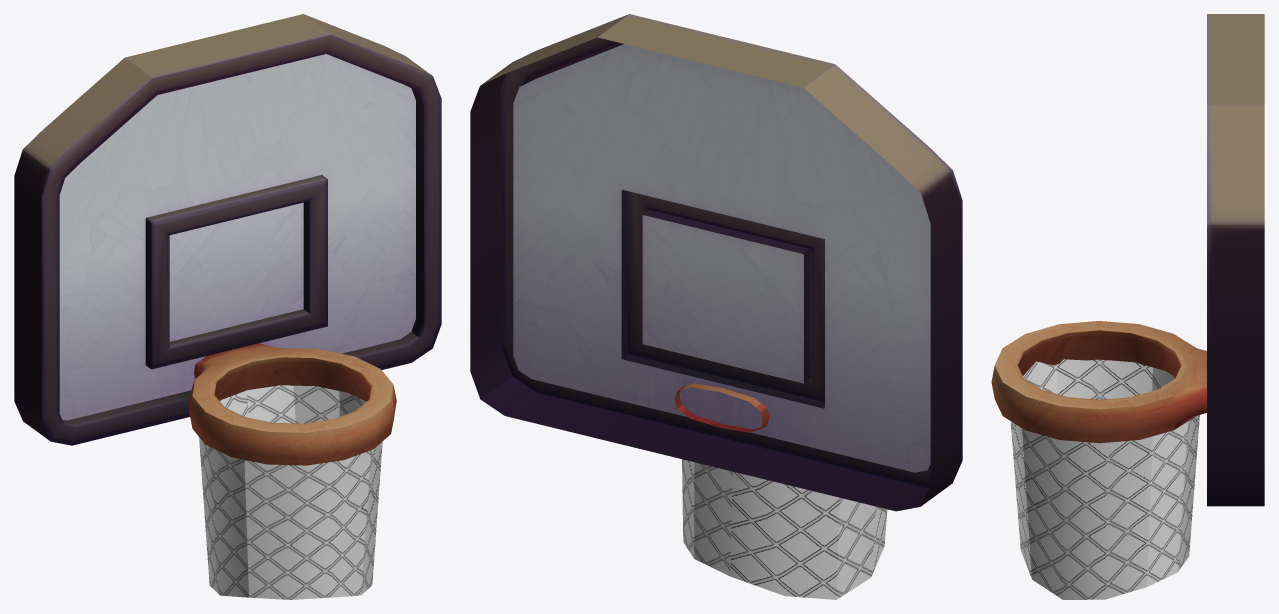
File: Basquete.fbx
3 renders of one model, left to right at view 1: azimuth 30°, elevation 25°; view 2: azimuth 150°, elevation 25°; view 3: azimuth 270°, elevation 25°, orthographic. The views are drawn at different scales.
Visible parts, largest first — view 1: Basquete; view 2: Basquete; view 3: Basquete.
Boxes of the visible parts, box(x1,y1,x2,y2) form: Basquete: box(14, 14, 441, 599); Basquete: box(470, 14, 962, 599); Basquete: box(991, 14, 1264, 599).
Size of the model in its own units: 1.12 by 1.32 by 0.6391.
